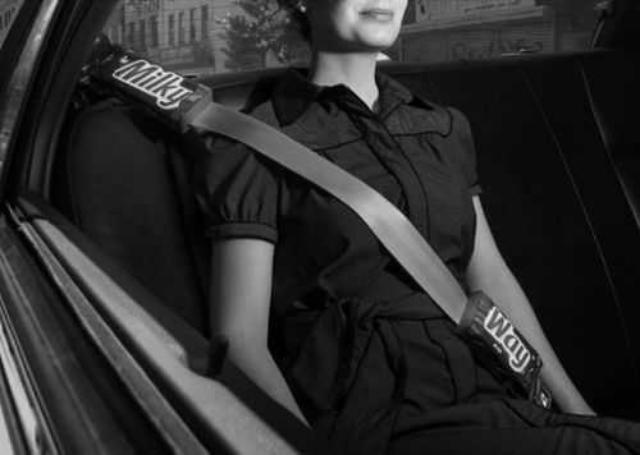Seatbelt: (88, 41, 544, 400)
